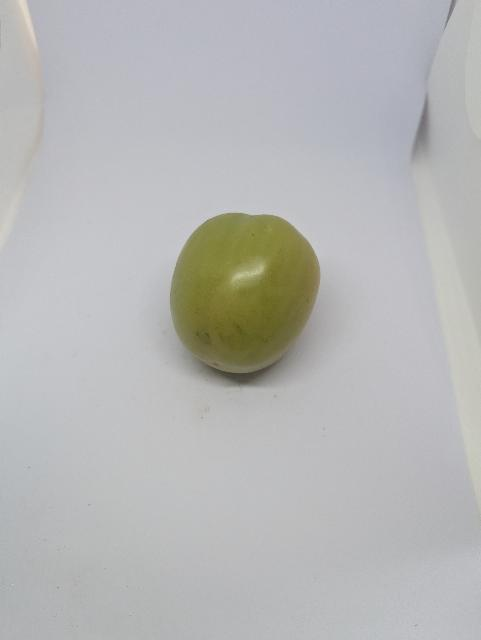green: (147, 187, 330, 394)
